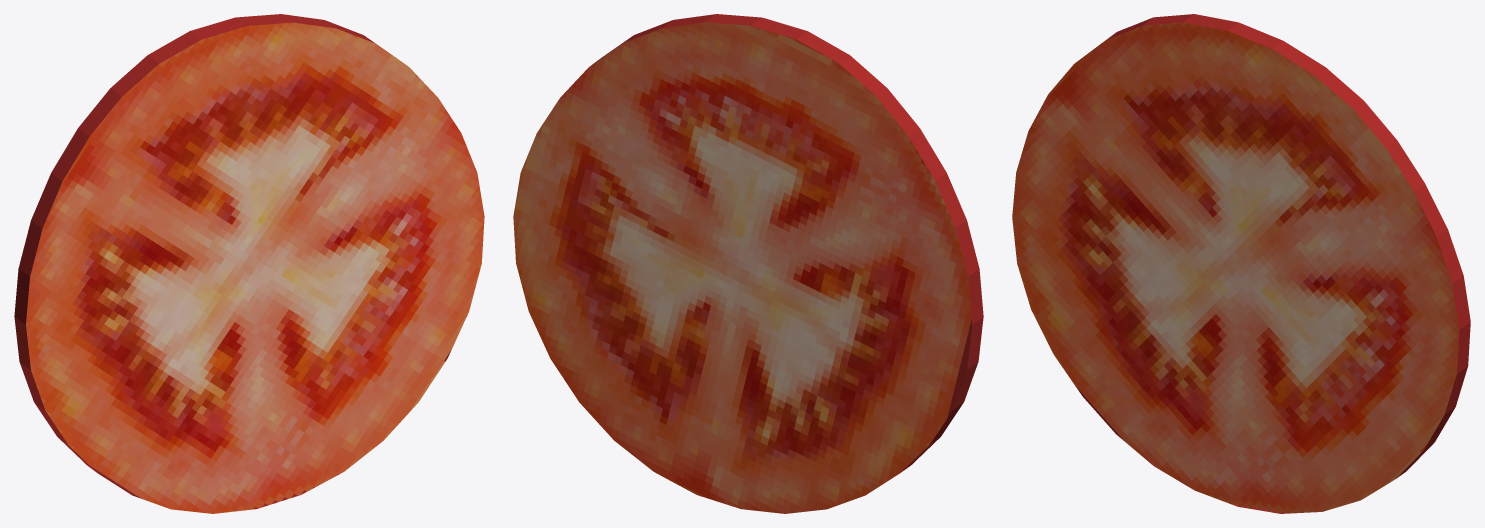
File: TomatoSlice.fbx
3 views of the same model, side by side, from view 1: azimuth 30°, elevation 25°; view 2: azimuth 150°, elevation 25°; view 3: azimuth 330°, elevation 25° (orthographic). The views are drawn at different scales.
Visible parts, largest first — view 1: Circle; view 2: Circle; view 3: Circle.
Part boxes in pixels (left/top/right/bottom): Circle: left=14, top=14, right=484, bottom=513; Circle: left=513, top=14, right=983, bottom=513; Circle: left=1012, top=14, right=1470, bottom=513.
Bounding box in the file's own units: 203 × 205 × 8.77.
